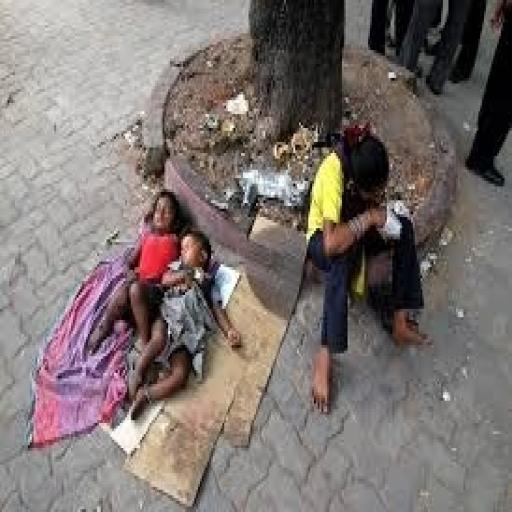sleeping: (301, 120, 435, 414)
